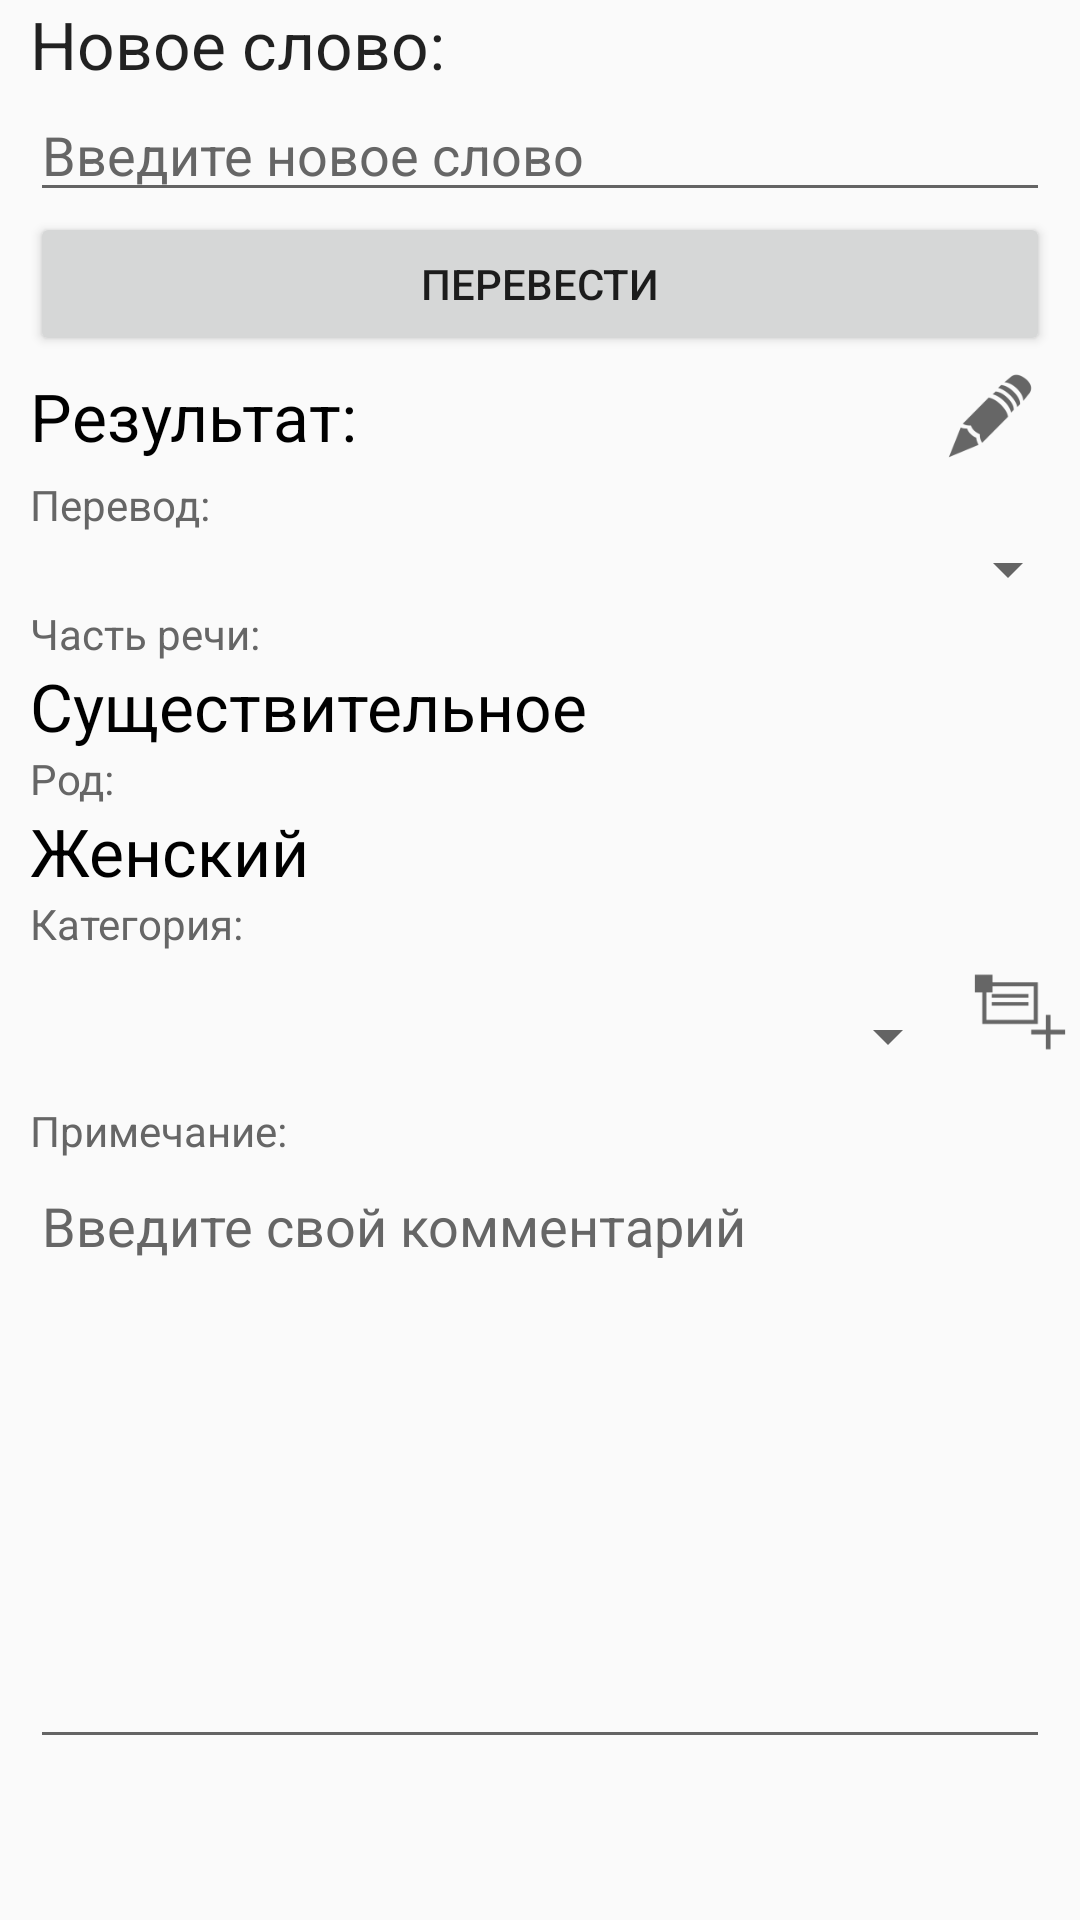

Icon bounding boxes for this 1080x1920 phone screenshot, format (x1, y1, x2, y2):
add category: (975, 974, 1065, 1050)
edit: (949, 374, 1032, 457)
